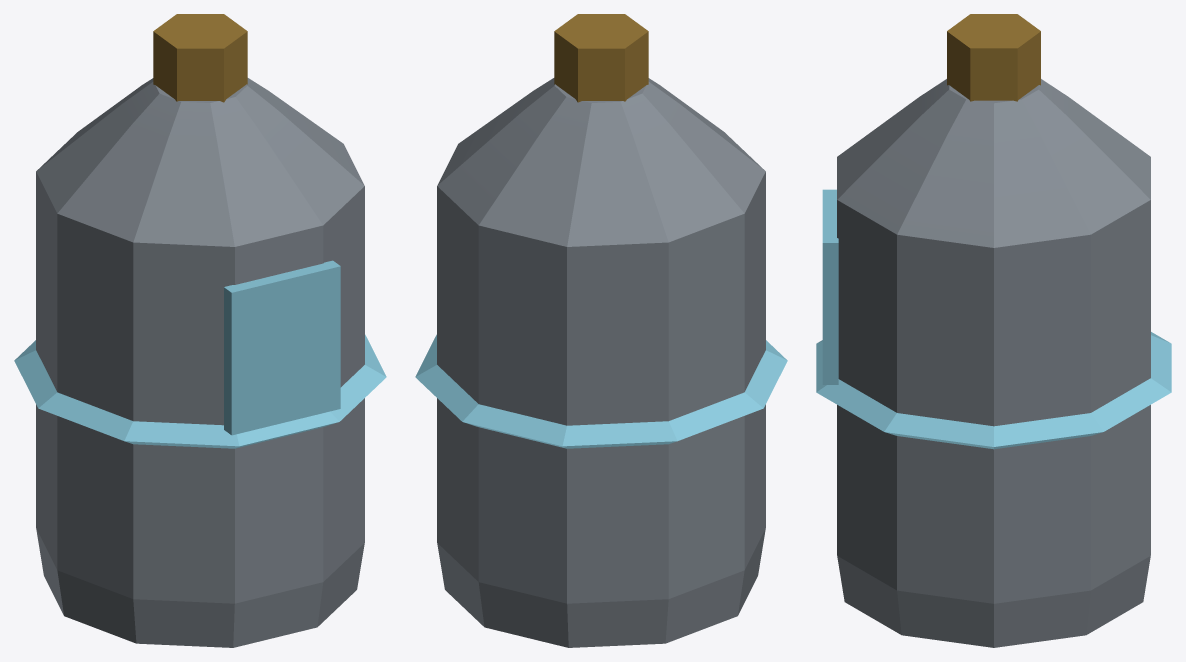
Rendered from projector-canister-cryo.glb.
The picture shows the model from 3 angles, left to right: view 1: azimuth 30°, elevation 25°; view 2: azimuth 150°, elevation 25°; view 3: azimuth 270°, elevation 25°; orthographic projection.
Visible parts, largest first — view 1: m; view 2: m; view 3: m.
Part boxes in pixels (x1,y1,x2,y2): m: (14,14,386,647); m: (415,14,787,647); m: (816,14,1171,647).
Size of the model in its own units: 0.0425 by 0.069 by 0.0404.
